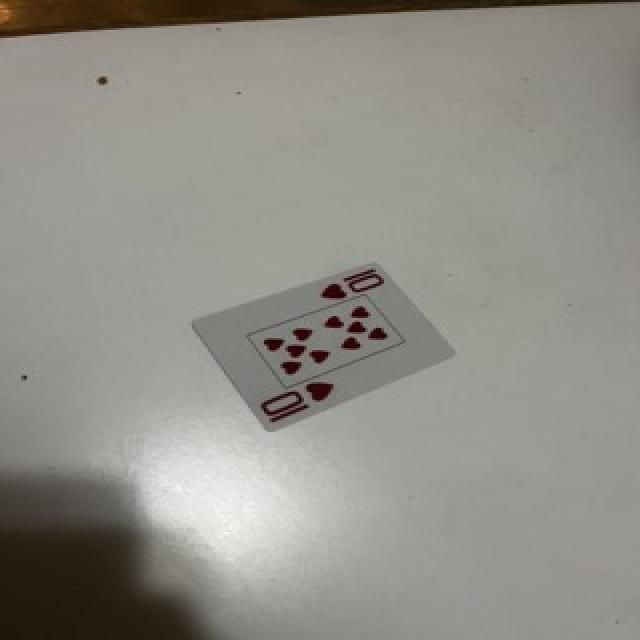10 of hearts: (194, 262, 453, 430)
